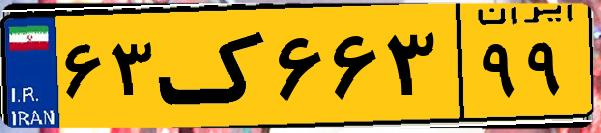3: (385, 28, 445, 110), (110, 28, 158, 98)
6: (270, 28, 330, 110), (330, 28, 385, 110), (57, 26, 110, 100)
9: (475, 38, 525, 113), (525, 38, 570, 115)
ک: (158, 12, 270, 120)
